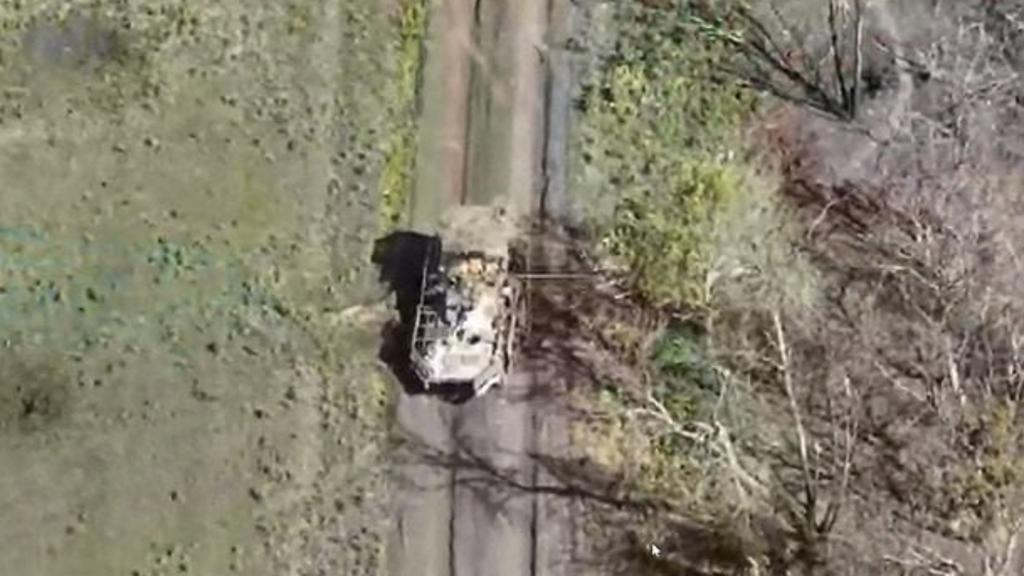APC-IFV: (402, 204, 527, 401)
